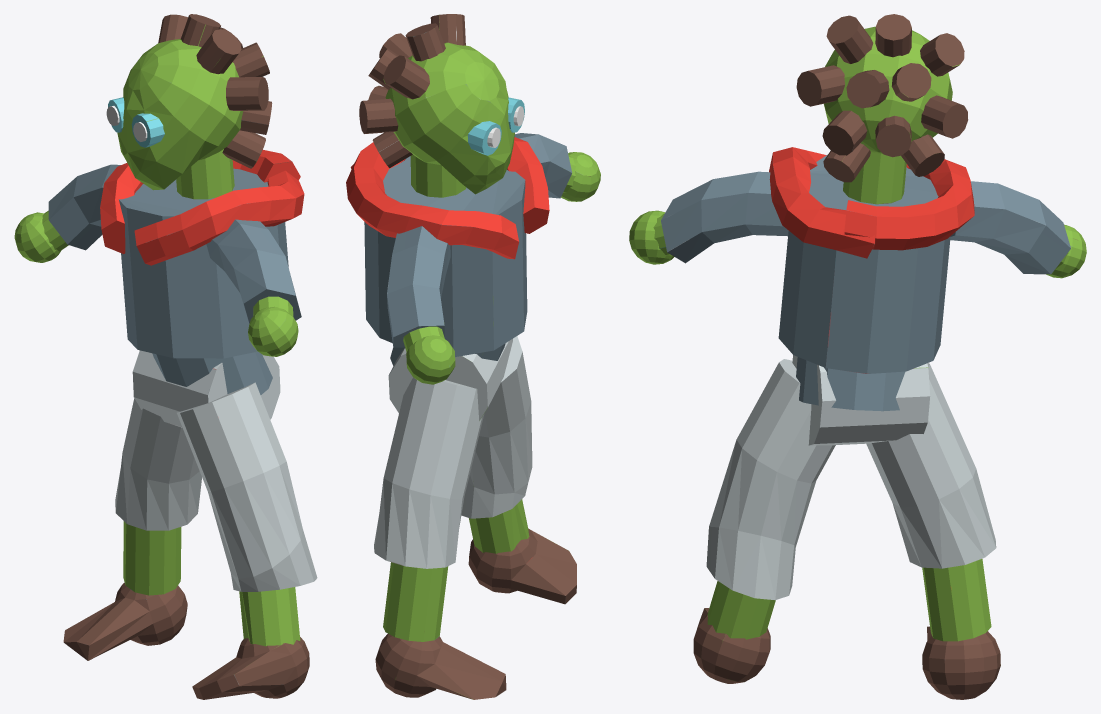
File: Alien.obj
The picture shows the model from 3 angles, left to right: view 1: azimuth 30°, elevation 25°; view 2: azimuth 150°, elevation 25°; view 3: azimuth 270°, elevation 25°; orthographic projection. The views are drawn at different scales.
Parts seen in each view (by area): view 1: Alien_mesh1181517561; view 2: Alien_mesh1181517561; view 3: Alien_mesh1181517561.
Boxes of the visible parts, x1,y1,x2,y2 form: Alien_mesh1181517561: [14, 14, 317, 699]; Alien_mesh1181517561: [346, 14, 600, 699]; Alien_mesh1181517561: [629, 14, 1086, 699].
Bounding box in the file's own units: 1.92 × 6.26 × 3.78.
Materials: 1 (1 with a texture image).
